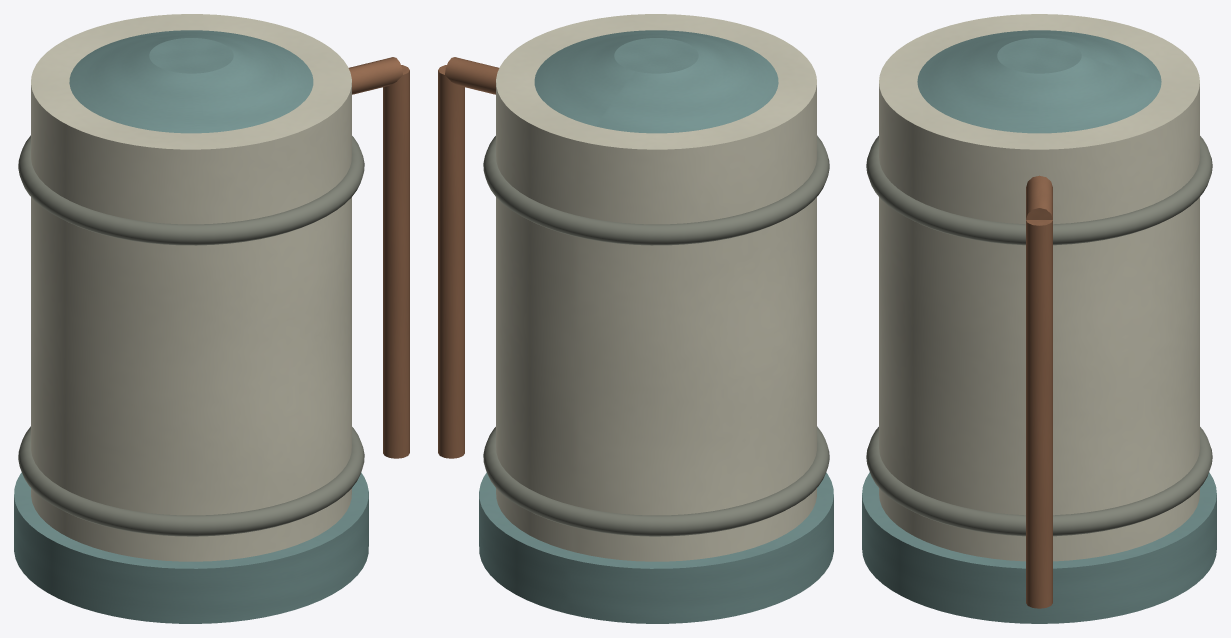
The model's file is Cooling_Tank.glb.
3 views of the same model, side by side, from view 1: azimuth 30°, elevation 25°; view 2: azimuth 150°, elevation 25°; view 3: azimuth 270°, elevation 25° (orthographic).
Parts seen in each view (by area): view 1: Cooling_Tank; view 2: Cooling_Tank; view 3: Cooling_Tank.
Boxes of the visible parts, x1=… form: Cooling_Tank: x1=14, y1=14, x2=409, y2=623; Cooling_Tank: x1=438, y1=14, x2=833, y2=623; Cooling_Tank: x1=862, y1=14, x2=1216, y2=623.
Bounding box in the file's own units: 2.53 × 3.22 × 2.1.
4 materials, 3 textured.
